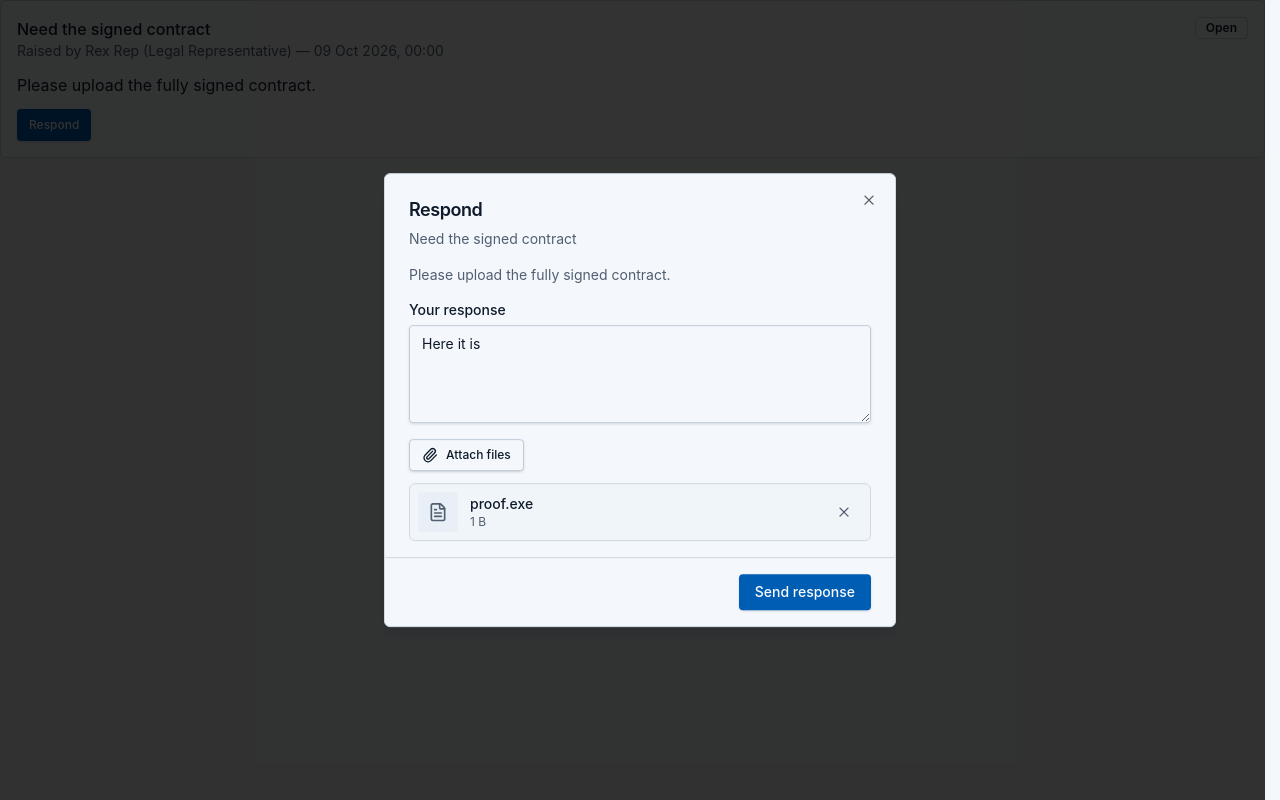
RequestsTab › does not send the response when an attachment fails, and keeps the file to retry
The width and height of the screenshot is (1280, 800).
Earlier steps of the test are not shown.
Click the button "Send response" at (805, 592), box x1=739 y1=574 x2=871 y2=610
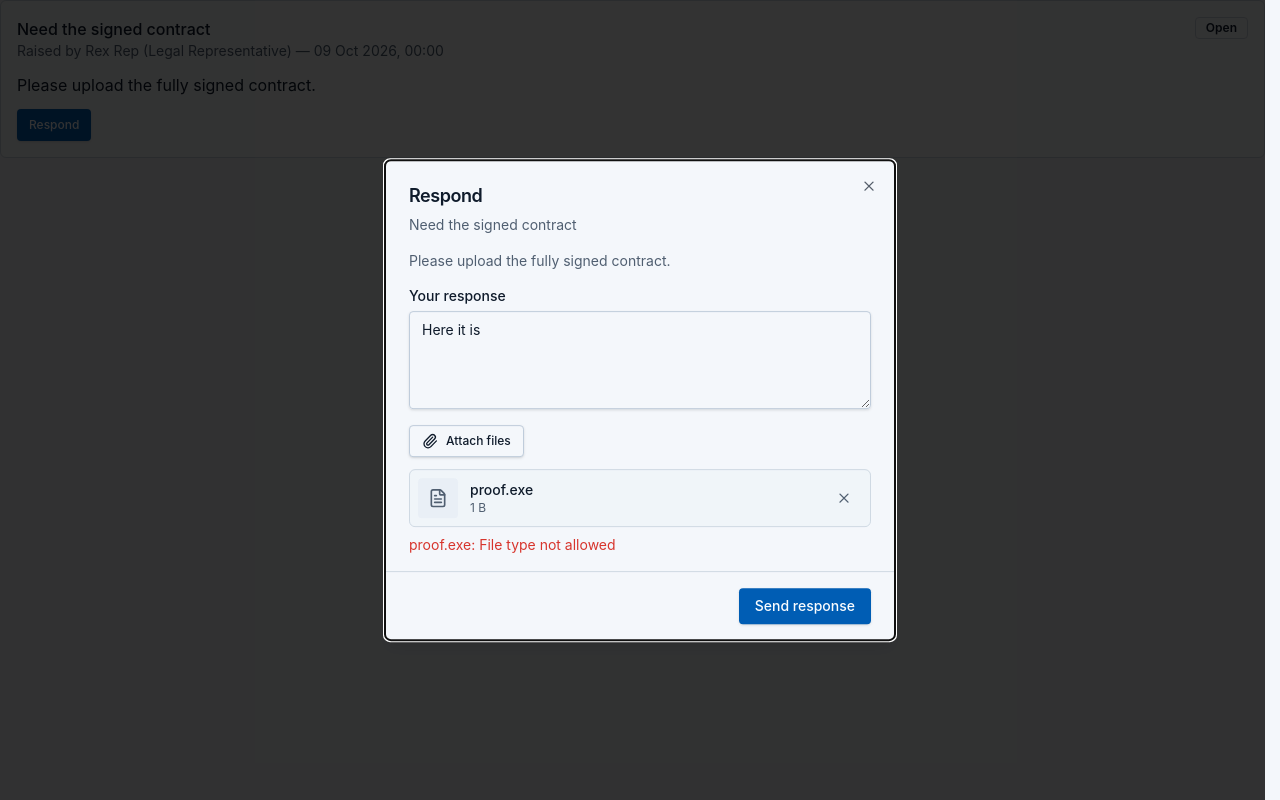
expect the text "proof.exe" is shown: met, box x1=470 y1=481 x2=533 y2=498
expect the text "proof.exe: File type not allowed" is shown: met, box x1=409 y1=536 x2=616 y2=553
